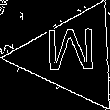M_S: (45, 30, 99, 82)
